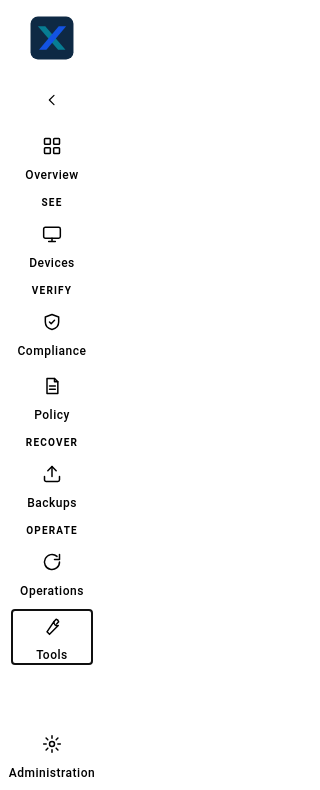
Test case: the rail (UI product review 2026-10-18, §2.3 / roadmap 1.1) › offers Tools as a real button with its two destinations as menu links, so the keyboard reaches both
This screenshot has width=320, height=790.
Click the button "Tools".
click(52, 637)  # box [12,610,92,664]
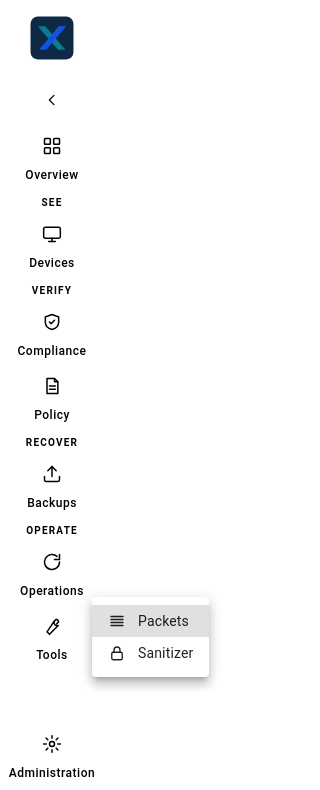
Expected: the button "Tools" is expanded, [12,610,92,664]
Expected: the menu items read "Packets", "Sanitizer", in this order, [92,605,209,637]; [108,644,193,662]
